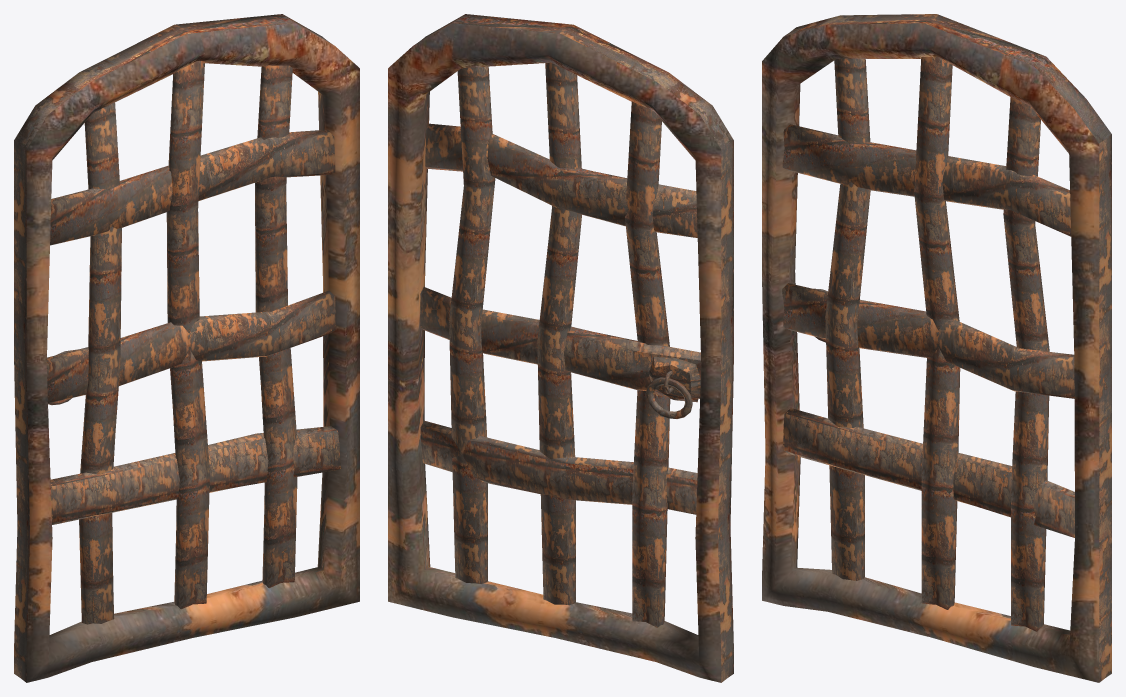
File: DoorForAnimation.FBX
The picture shows the model from 3 angles, left to right: view 1: azimuth 30°, elevation 25°; view 2: azimuth 150°, elevation 25°; view 3: azimuth 330°, elevation 25°; orthographic projection.
Parts seen in each view (by area): view 1: IronCastDoor; view 2: IronCastDoor, Handle001; view 3: IronCastDoor.
Boxes of the visible parts, <box> form: IronCastDoor: <box>14,14,359,682</box>; IronCastDoor: <box>388,14,733,682</box>; Handle001: <box>646,377,692,418</box>; IronCastDoor: <box>762,14,1111,682</box>.
Bounding box in the file's own units: 2.04 × 3.57 × 0.2736.
